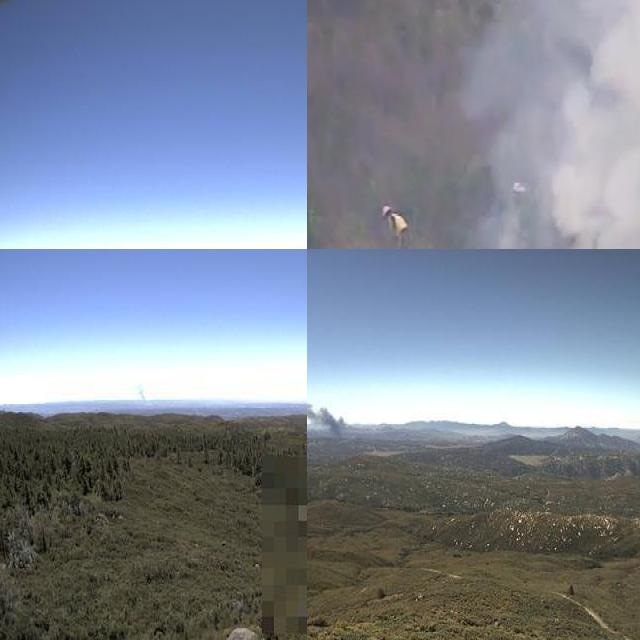smoke: (459, 0, 640, 249), (307, 396, 358, 450), (132, 379, 151, 412)
